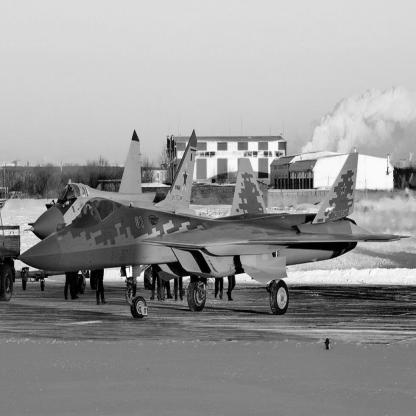Mig31: (24, 129, 198, 294)
Su57: (18, 153, 413, 320)
